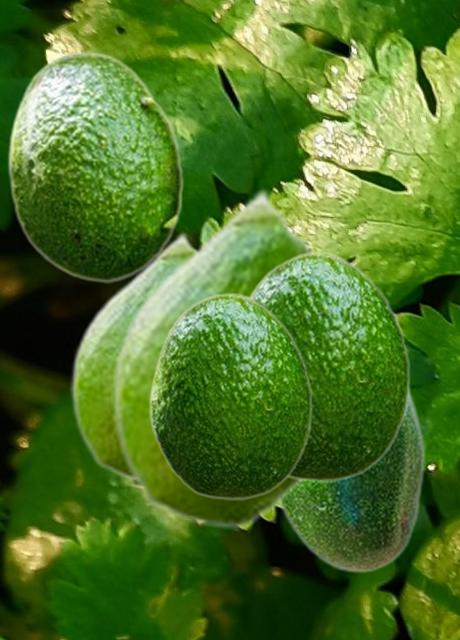avocado: (111, 186, 319, 529), (6, 51, 183, 282), (247, 251, 410, 481), (149, 292, 312, 499), (70, 230, 197, 483), (278, 383, 424, 573)
